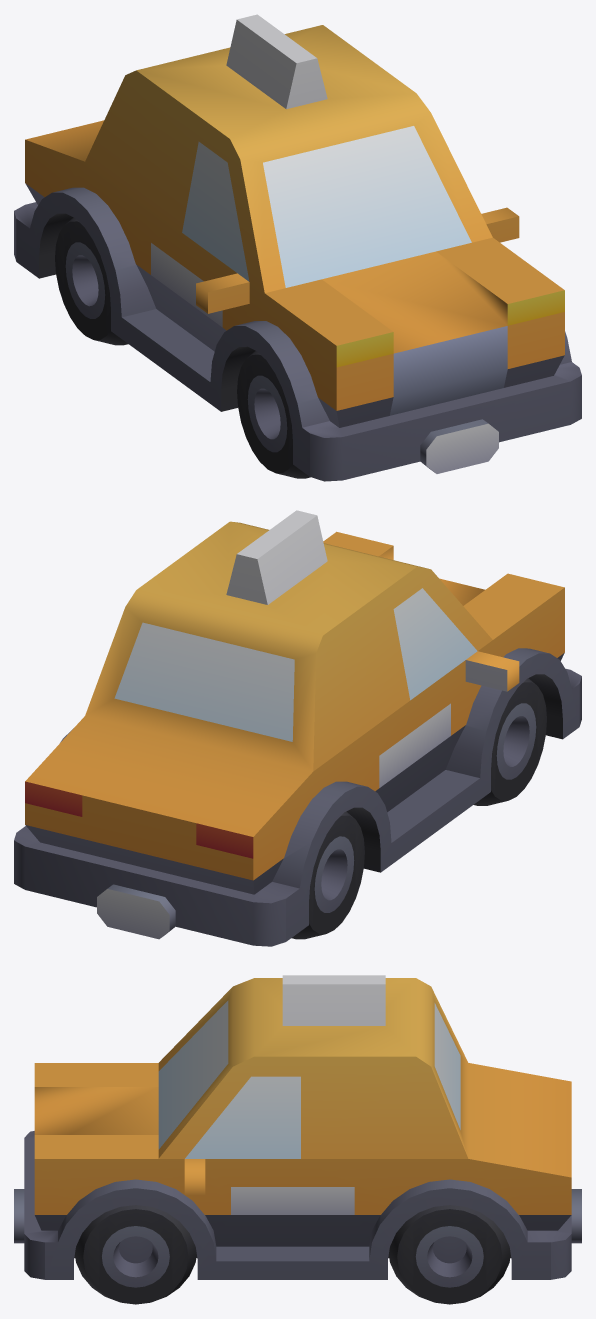
The model's file is taxi.glb.
3 views of the same model, one above another, from view 1: azimuth 30°, elevation 25°; view 2: azimuth 150°, elevation 25°; view 3: azimuth 270°, elevation 25° (orthographic). The views are drawn at different scales.
Visible parts, largest first — view 1: body, wheel-front-right, wheel-back-right; view 2: body, wheel-back-right, wheel-front-right; view 3: body, wheel-front-left, wheel-back-left.
Boxes of the visible parts, x1,y1,x2,y2 form: body: [14, 14, 581, 481]; wheel-front-right: [237, 350, 310, 478]; wheel-back-right: [55, 217, 128, 345]; body: [14, 510, 581, 946]; wheel-back-right: [291, 811, 364, 939]; wheel-front-right: [473, 678, 546, 805]; body: [14, 975, 581, 1279]; wheel-front-left: [75, 1205, 196, 1304]; wheel-back-left: [388, 1205, 510, 1304].
Bounding box in the file's own units: 1.5 × 1.5 × 2.75.
